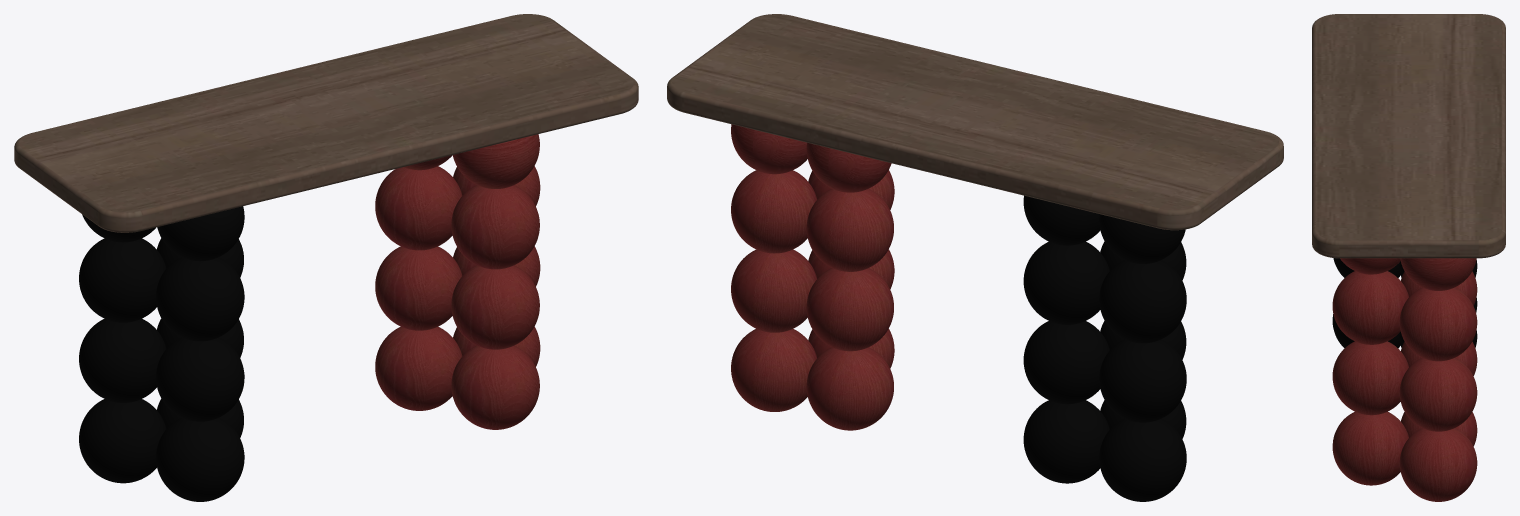
Rendered from SPHERES CONSOLE.glb.
3 renders of one model, left to right at view 1: azimuth 30°, elevation 25°; view 2: azimuth 150°, elevation 25°; view 3: azimuth 270°, elevation 25°, orthographic. The views are drawn at different scales.
Bounding box in the file's own units: 1.4 × 0.8291 × 0.4999.
Materials: 3 (2 with a texture image).
